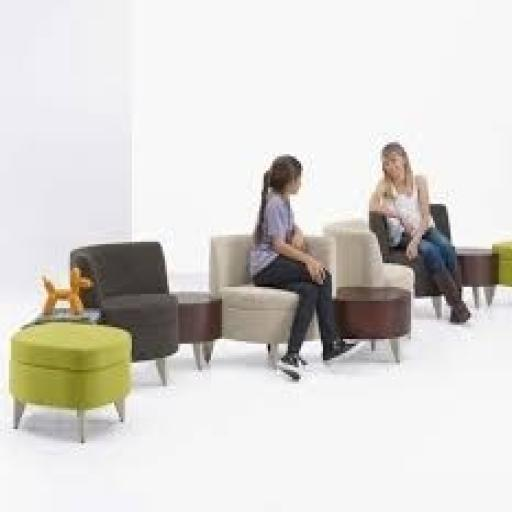sitting: (246, 152, 358, 382), (367, 140, 472, 325)
